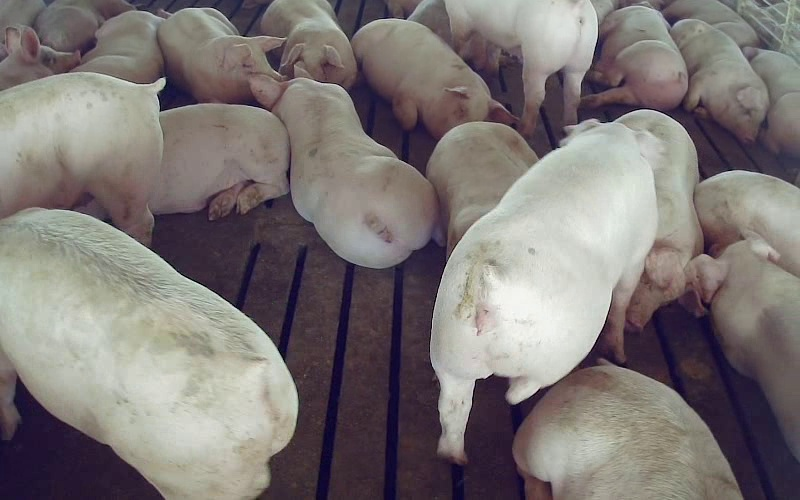pig: (0, 208, 297, 499), (251, 62, 438, 267), (513, 364, 742, 499), (686, 238, 799, 460), (445, 0, 597, 135), (351, 19, 515, 138), (616, 109, 703, 330), (150, 104, 288, 219), (426, 122, 537, 256), (670, 19, 768, 142), (158, 8, 283, 103), (694, 170, 799, 276), (582, 5, 687, 110), (72, 11, 163, 83), (743, 47, 799, 157), (34, 0, 134, 53), (662, 0, 759, 47)
